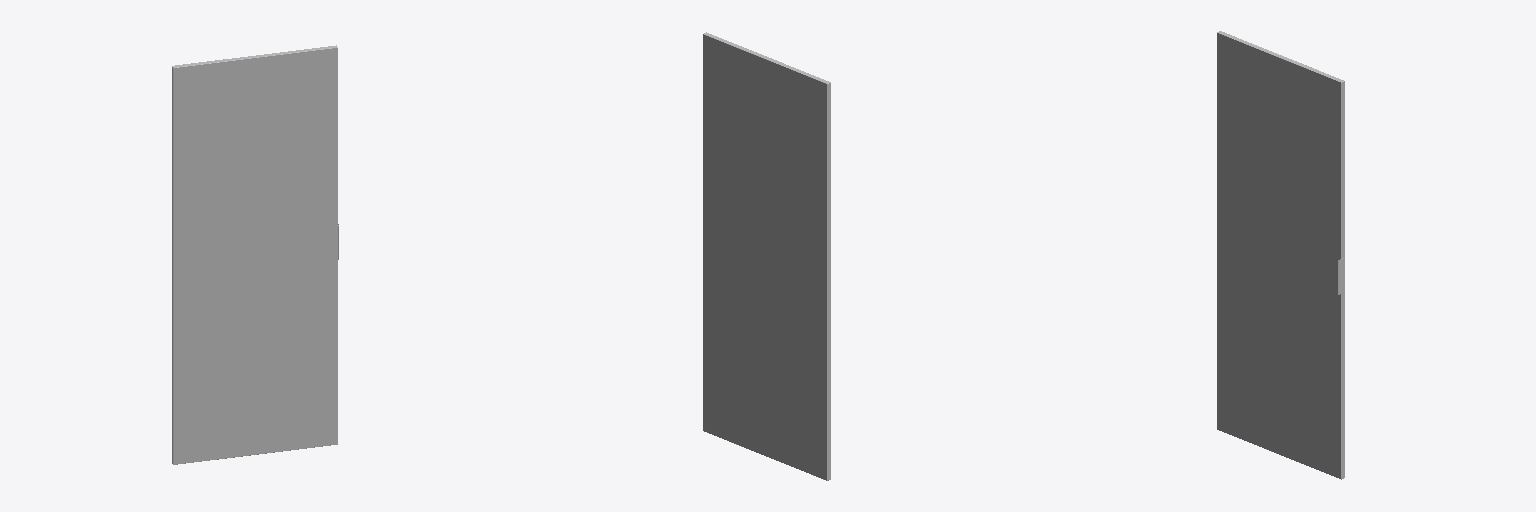
Rendered from WOOD_PLANE_2.obj.
3 views of the same model, side by side, from view 1: azimuth 30°, elevation 25°; view 2: azimuth 150°, elevation 25°; view 3: azimuth 330°, elevation 25° (orthographic).
Parts seen in each view (by area): view 1: door01.001_Cube.040; view 2: door01.001_Cube.040; view 3: door01.001_Cube.040.
Boxes of the visible parts, x1=… form: door01.001_Cube.040: x1=172, y1=45, x2=338, y2=464; door01.001_Cube.040: x1=703, y1=32, x2=830, y2=480; door01.001_Cube.040: x1=1217, y1=31, x2=1344, y2=479.
Bounding box in the file's own units: 0.5846 × 1.52 × 0.1723.